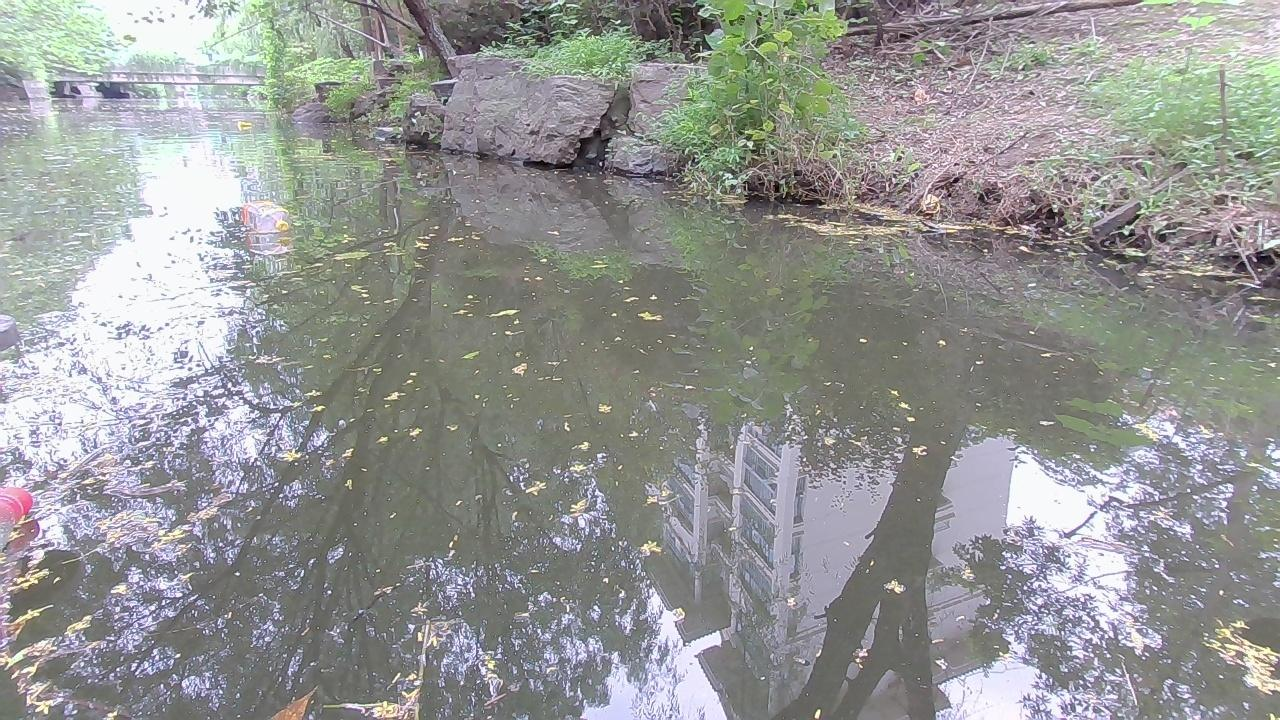bottle: (241, 201, 294, 231), (235, 119, 253, 128)
